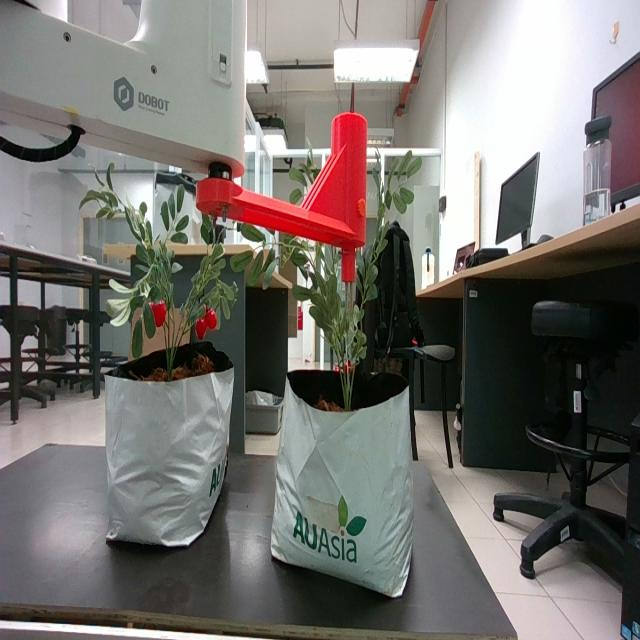EndEffector: (0, 11, 368, 284)
Soilbag: (269, 371, 416, 600), (104, 348, 236, 552)
plant: (229, 150, 420, 412), (88, 194, 239, 381)
